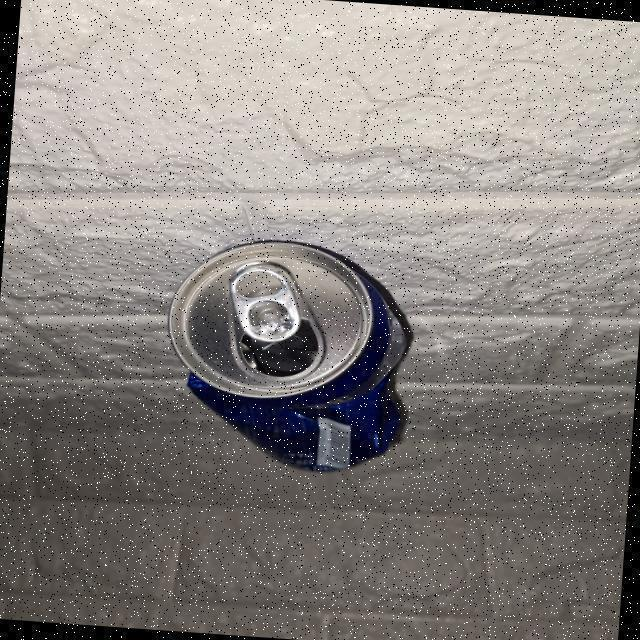metal: (156, 234, 432, 485)
